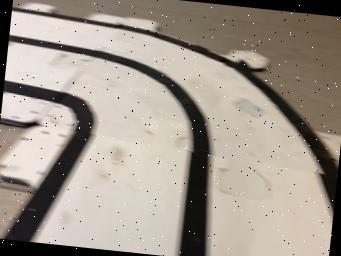street: (0, 7, 336, 256), (0, 7, 336, 256), (0, 7, 336, 256), (0, 7, 336, 256), (0, 7, 336, 256), (0, 7, 336, 256)
